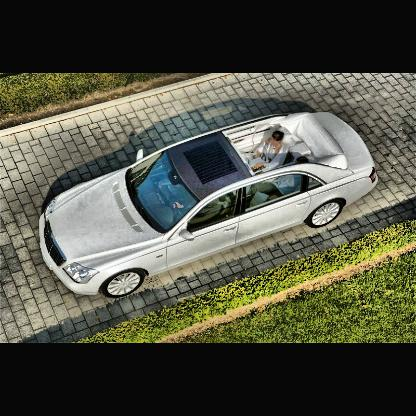Maybach Landaulet Convertible 2012: (38, 109, 380, 300)
